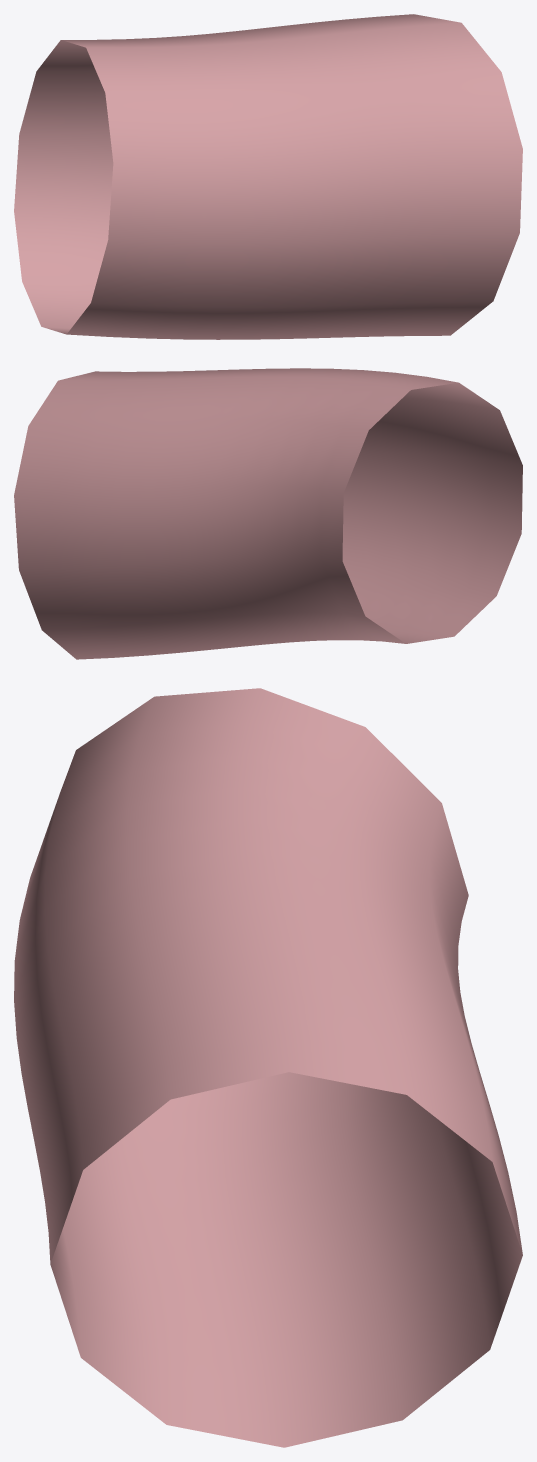
3 renders of one model, top to bottom at view 1: azimuth 30°, elevation 25°; view 2: azimuth 150°, elevation 25°; view 3: azimuth 270°, elevation 25°, orthographic. The views are drawn at different scales.
Parts seen in each view (by area): view 1: ZA_e620da54a85b0ccc; view 2: ZA_e620da54a85b0ccc; view 3: ZA_e620da54a85b0ccc.
Part boxes in pixels (x1=…): ZA_e620da54a85b0ccc: x1=14, y1=14, x2=522, y2=339; ZA_e620da54a85b0ccc: x1=14, y1=368, x2=522, y2=659; ZA_e620da54a85b0ccc: x1=14, y1=688, x2=522, y2=1447.
Bounding box in the file's own units: 0.0189 × 0.0148 × 0.0129.
